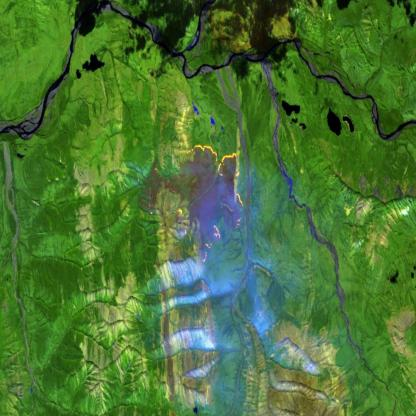fire: (180, 138, 246, 270)
